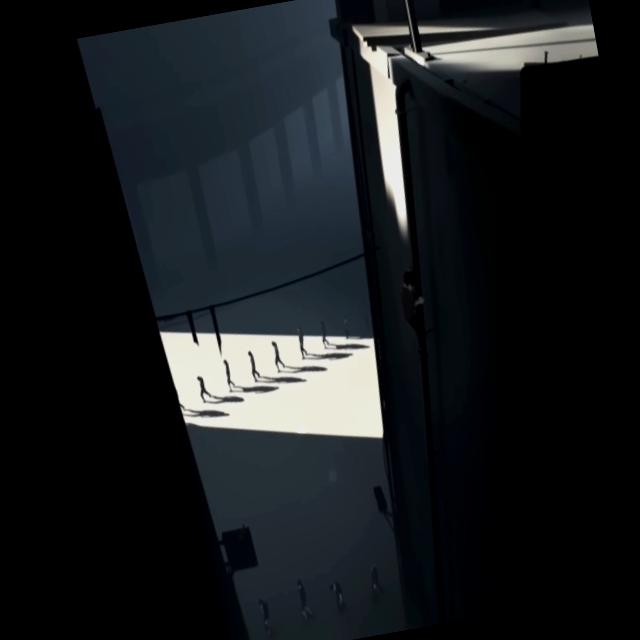boy: (396, 266, 434, 358)
